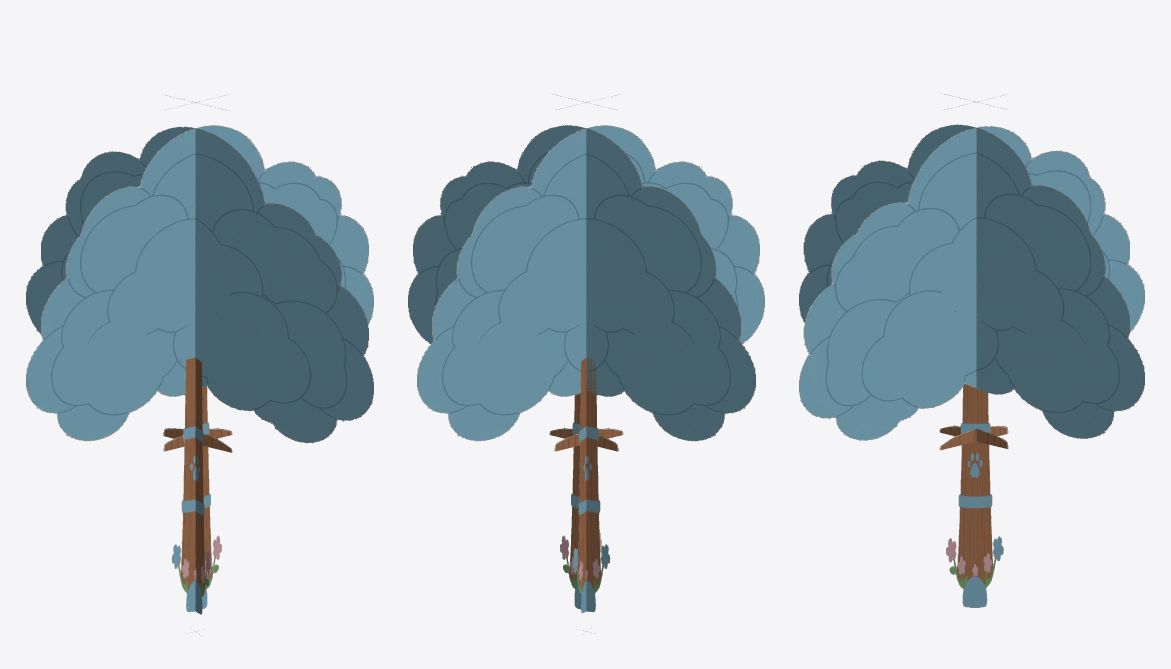
The model's file is nyanisyarud-tree-blue.glb.
3 views of the same model, side by side, from view 1: azimuth 30°, elevation 25°; view 2: azimuth 150°, elevation 25°; view 3: azimuth 270°, elevation 25° (orthographic).
Size of the model in its own units: 1.8 by 2.51 by 1.56.
2 materials, 2 textured.
